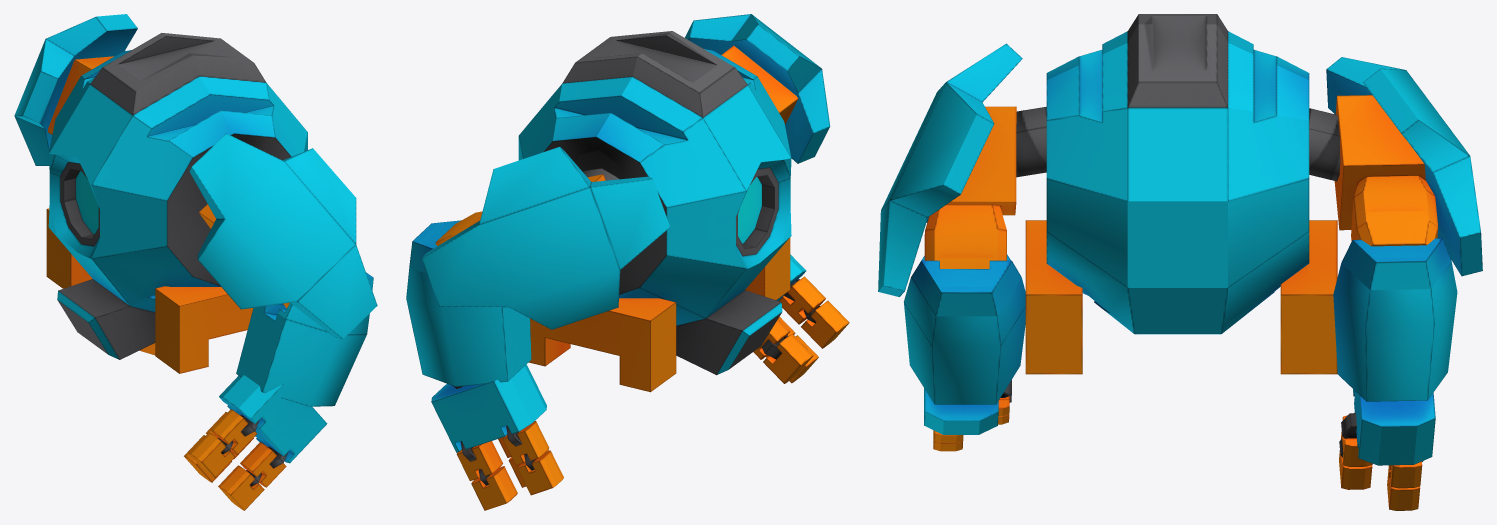
The model's file is Body_Idle16.obj.
3 renders of one model, left to right at view 1: azimuth 30°, elevation 25°; view 2: azimuth 150°, elevation 25°; view 3: azimuth 270°, elevation 25°, orthographic. The views are drawn at different scales.
Parts seen in each view (by area): view 1: Plane001, Object006, Object008, Object007, Object002; view 2: Plane001, Object002, Object004, Object003, Object006, Object008; view 3: Plane001, Object002, Object006, Object003, Object007, Object004, Object008, Object001, Object005.
Boxes of the visible parts, <box> form: Plane001: <box>46,33,307,373</box>; Object006: <box>189,133,377,339</box>; Object008: <box>184,375,327,510</box>; Object007: <box>236,272,373,406</box>; Object002: <box>14,14,137,165</box>; Plane001: <box>518,31,791,392</box>; Object002: <box>421,147,669,329</box>; Object004: <box>431,364,563,510</box>; Object003: <box>406,220,531,386</box>; Object006: <box>685,14,830,163</box>; Object008: <box>753,254,849,383</box>; Plane001: <box>1025,14,1337,374</box>; Object002: <box>1326,57,1482,276</box>; Object006: <box>878,43,1022,296</box>; Object003: <box>1333,238,1457,401</box>; Object007: <box>904,254,1025,404</box>; Object004: <box>1339,389,1435,510</box>; Object008: <box>924,380,1011,451</box>; Object001: <box>1309,108,1340,181</box>; Object005: <box>1016,106,1046,177</box>.
Bounding box in the file's own units: 98.17 × 150 × 183.
